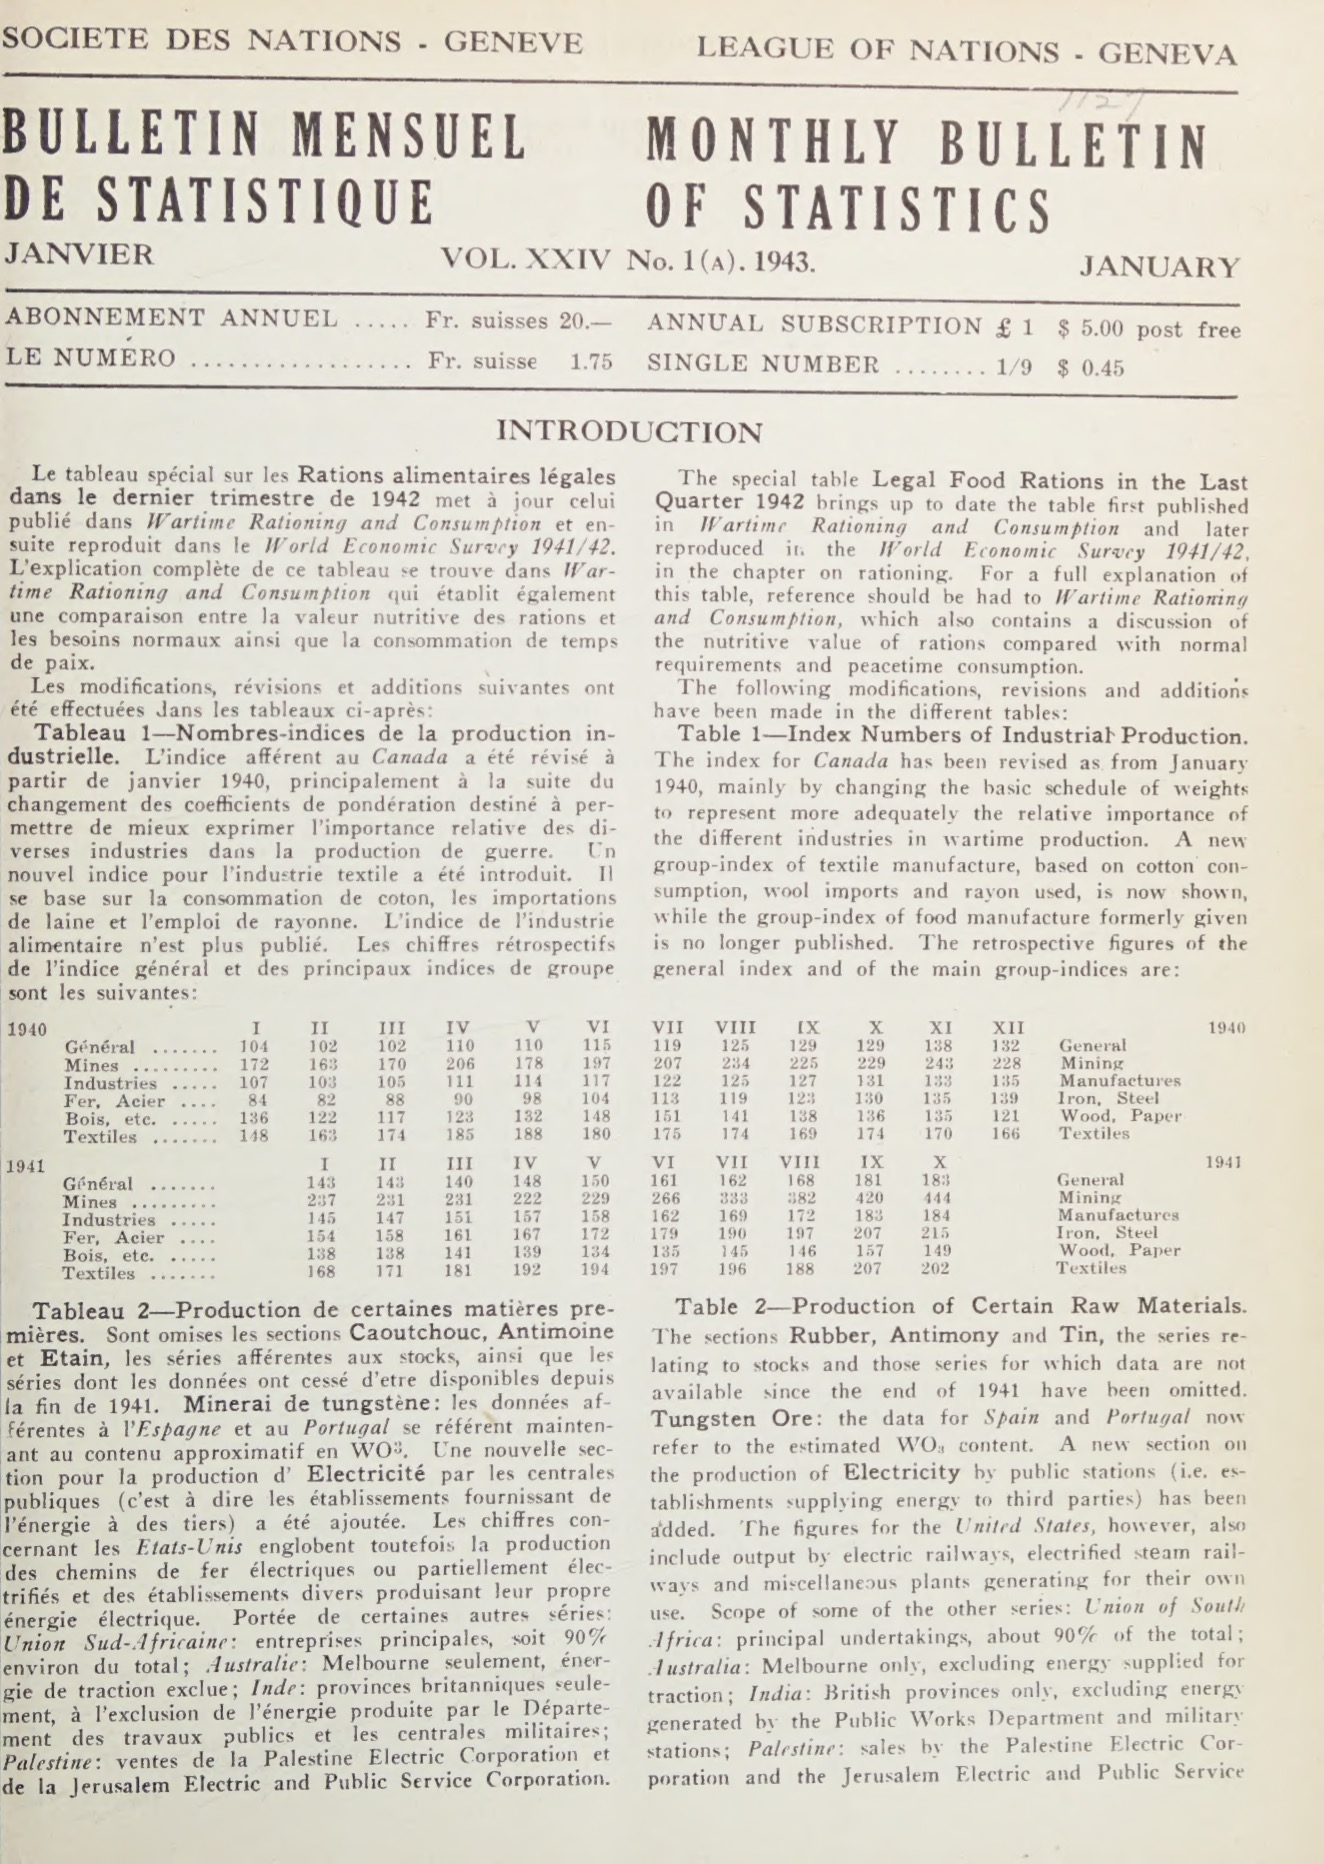MainZone-Head: (7, 95, 1255, 295), (488, 413, 768, 457)
MainZone-P: (0, 1292, 622, 1804), (641, 1293, 1253, 1787), (1, 720, 624, 1003), (649, 721, 1255, 987), (4, 460, 624, 674), (649, 465, 1257, 677), (5, 674, 629, 722), (648, 677, 1256, 723)
RunningTitleZone: (685, 24, 1249, 80), (1, 20, 583, 62)
TableZone: (647, 1004, 1260, 1290), (4, 1010, 622, 1291), (645, 305, 1248, 397), (7, 297, 613, 385)
